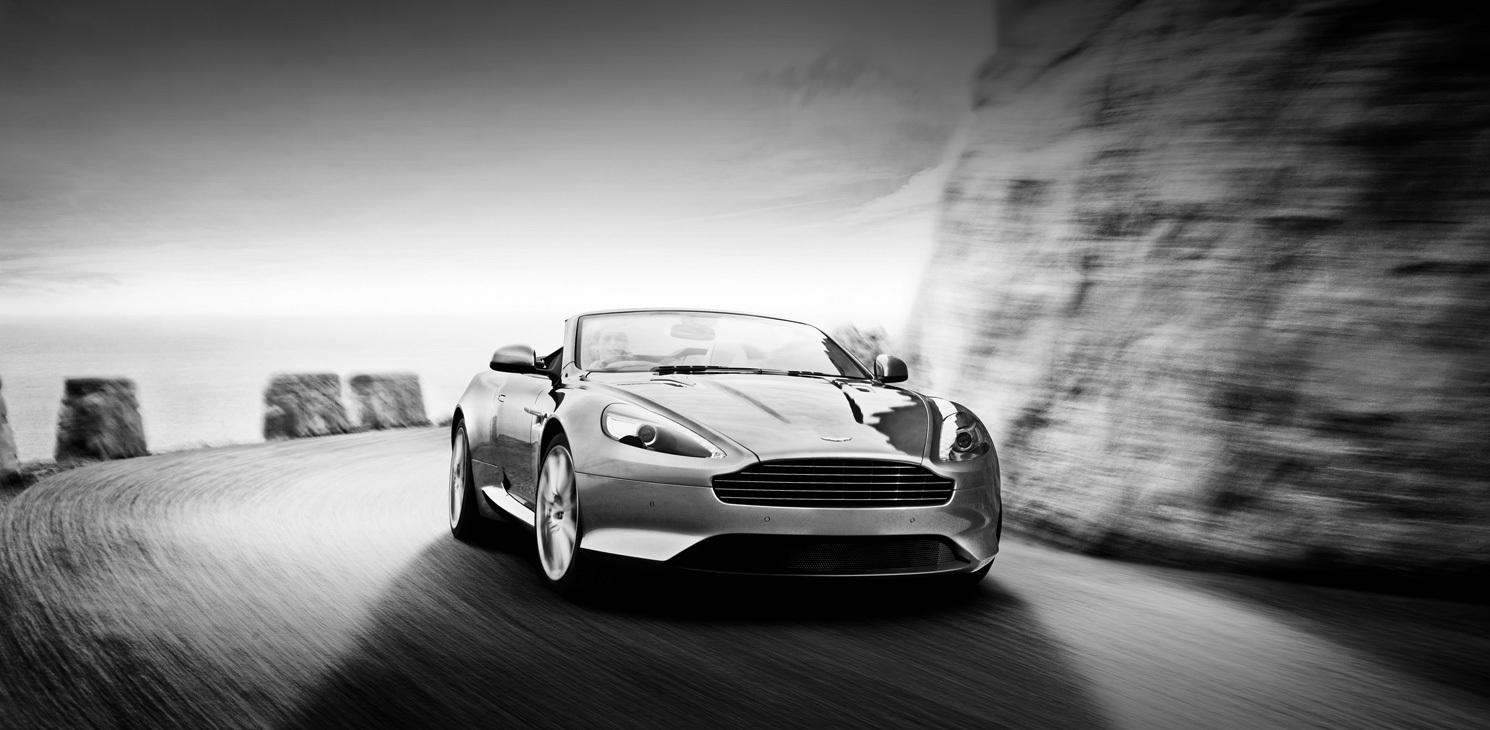car: (435, 304, 1008, 622)
